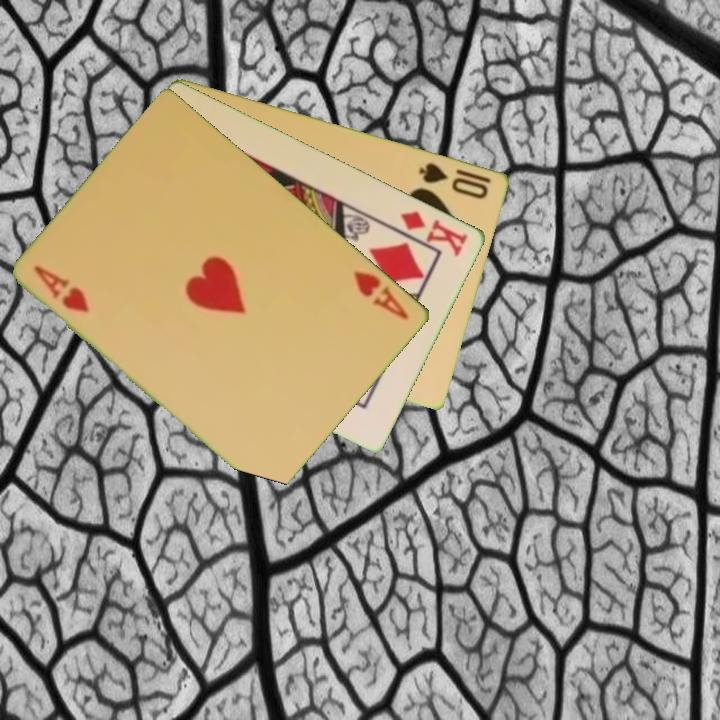10s: (415, 158, 492, 202)
Ah: (350, 267, 412, 323), (31, 261, 93, 315)
Kd: (397, 206, 472, 260)
